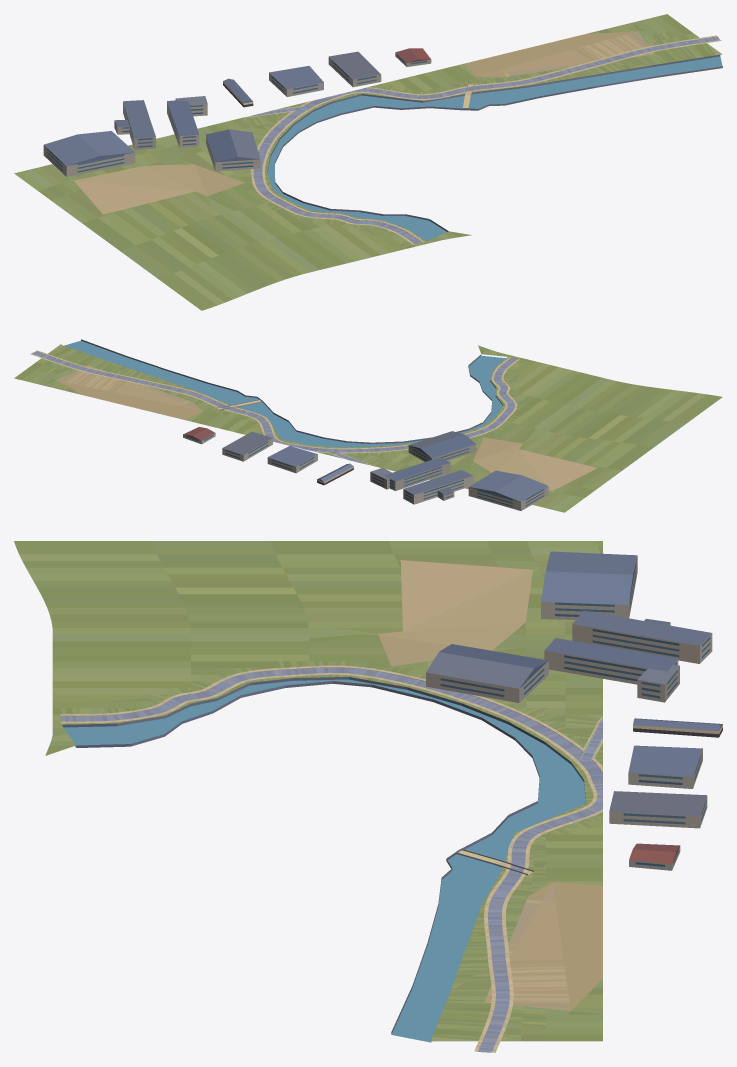
File: ART_CastleApproach.lod.glb
The picture shows the model from 3 angles, top to bottom: view 1: azimuth 30°, elevation 25°; view 2: azimuth 150°, elevation 25°; view 3: azimuth 270°, elevation 25°; orthographic projection. The views are drawn at different scales.
Visible parts, largest first — view 1: ART_CastleApproach; view 2: ART_CastleApproach; view 3: ART_CastleApproach.
Part boxes in pixels (<box>): ART_CastleApproach: <box>14,14,722,310</box>; ART_CastleApproach: <box>14,339,722,512</box>; ART_CastleApproach: <box>14,541,722,1052</box>.
Size of the model in its own units: 614 by 14 by 359.
